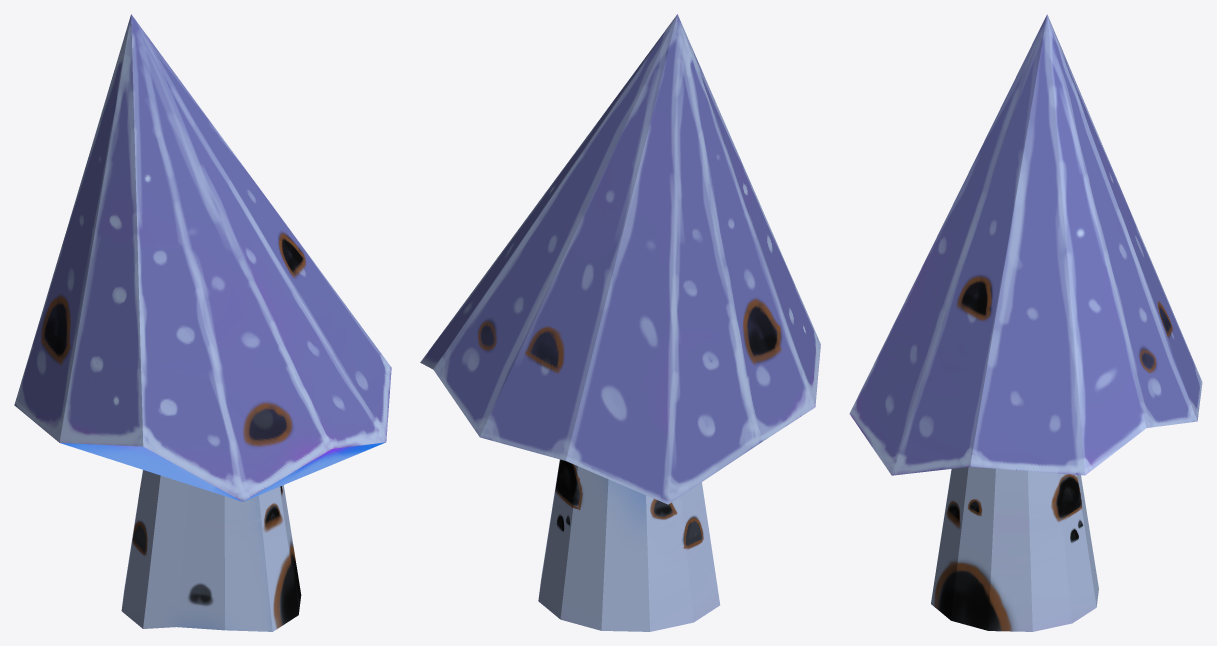
The model's file is Mushroom House.fbx.
The picture shows the model from 3 angles, left to right: view 1: azimuth 30°, elevation 25°; view 2: azimuth 150°, elevation 25°; view 3: azimuth 270°, elevation 25°; orthographic projection. The views are drawn at different scales.
Parts seen in each view (by area): view 1: Cone.001; view 2: Cone.001; view 3: Cone.001.
Part boxes in pixels (x1,y1,x2,y2): Cone.001: (14, 14, 391, 631); Cone.001: (420, 14, 820, 631); Cone.001: (849, 14, 1202, 631).
Bounding box in the file's own units: 190 × 323 × 187.
